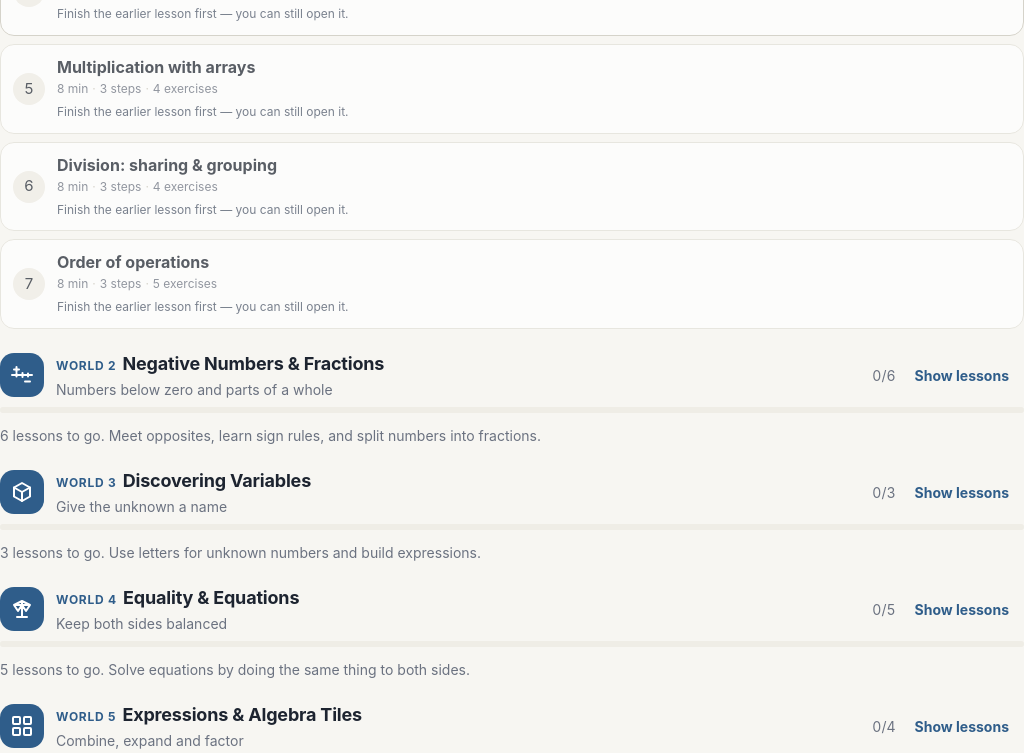
Scenario: Learn map — expansion state › opening a second world keeps the first one open
(page scrolled)
Click the button "Show lessons" in the row of "Negative Numbers & Fractions".
click(962, 375)  # box x1=900 y1=353 x2=1023 y2=397
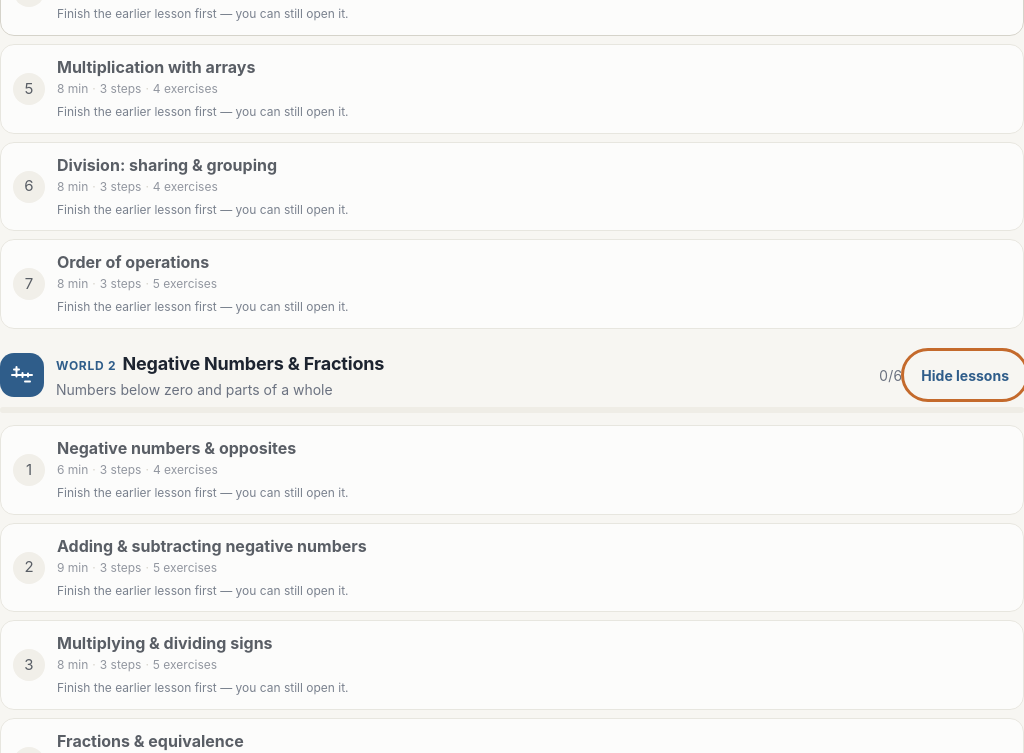
Expected: the button "Hide lessons" is expanded, x1=906 y1=353 x2=1023 y2=397
